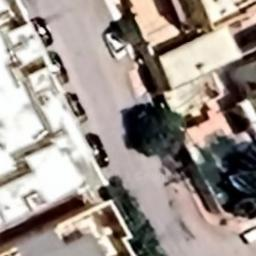pickup: (83, 129, 111, 170), (60, 89, 90, 127), (100, 26, 130, 63), (42, 50, 70, 88), (28, 14, 54, 48), (239, 220, 256, 246)
